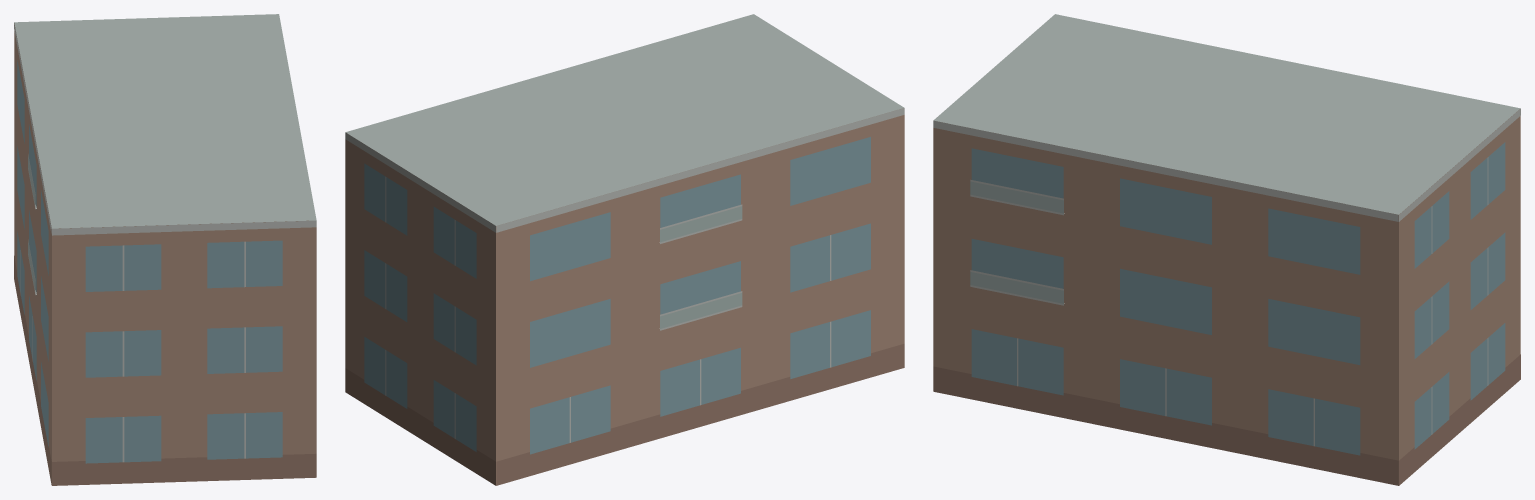
File: survey-upis-33046081.glb
3 views of the same model, side by side, from view 1: azimuth 30°, elevation 25°; view 2: azimuth 150°, elevation 25°; view 3: azimuth 270°, elevation 25° (orthographic). The views are drawn at different scales.
Parts seen in each view (by area): view 1: survey-upis-33046081.tmp; view 2: survey-upis-33046081.tmp; view 3: survey-upis-33046081.tmp.
Part boxes in pixels (x1,y1,x2,y2): survey-upis-33046081.tmp: [14, 14, 316, 485]; survey-upis-33046081.tmp: [345, 14, 904, 485]; survey-upis-33046081.tmp: [933, 14, 1520, 485].
Bounding box in the file's own units: 14.54 × 9.15 × 17.98.
